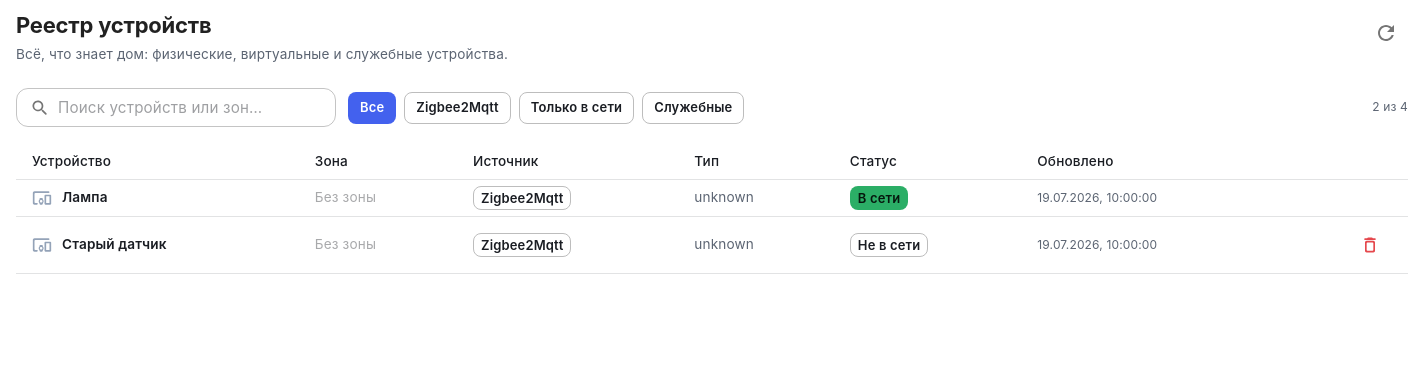
Test: DeviceRegistry (/devices) › reveals service devices behind the toggle
Expected: the text "Лампа" is shown, left=62, top=188, right=108, bottom=208
Step 1. Click the button "Служебные" → (693, 108), box left=642, top=92, right=744, bottom=124
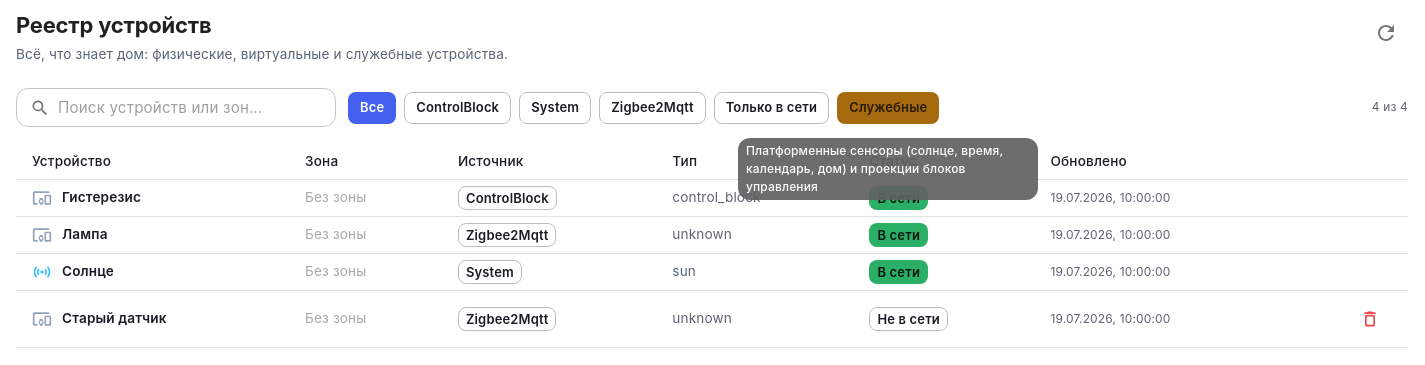
Result: the text "Солнце" is shown at left=62, top=262, right=114, bottom=282
Result: the text "Гистерезис" is shown at left=62, top=188, right=141, bottom=208
Result: the text "4 из 4" is shown at left=1372, top=99, right=1408, bottom=116
